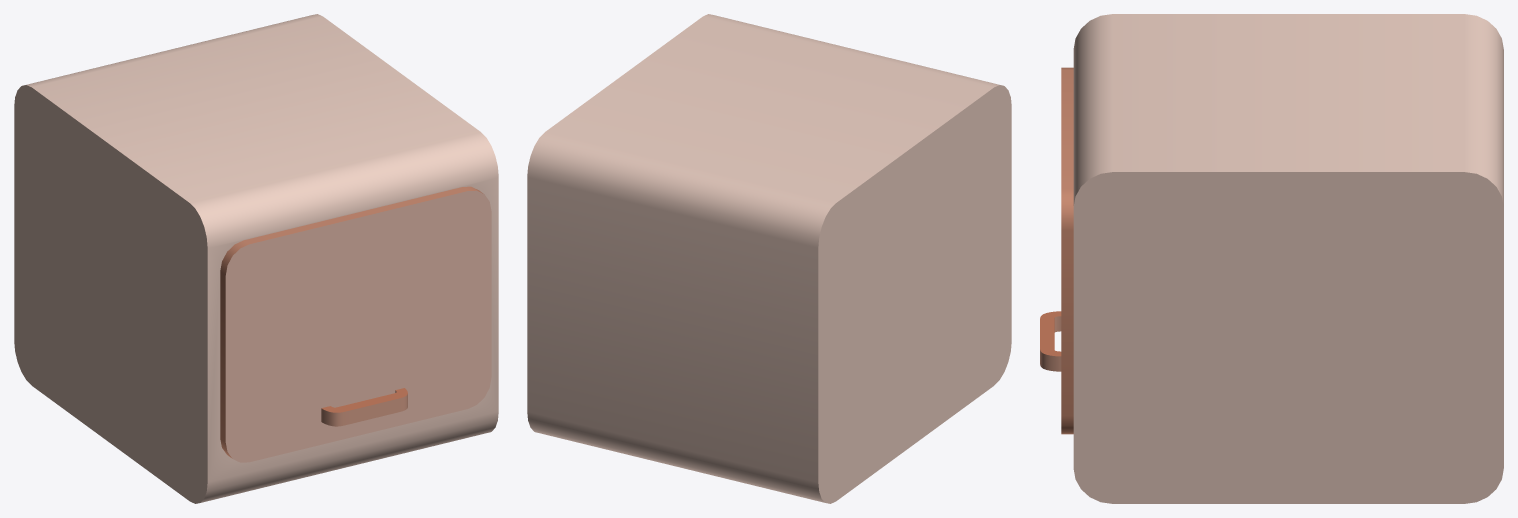
Rendered from Cupboard D.fbx.
3 views of the same model, side by side, from view 1: azimuth 30°, elevation 25°; view 2: azimuth 150°, elevation 25°; view 3: azimuth 270°, elevation 25° (orthographic). The views are drawn at different scales.
Visible parts, largest first — view 1: Cupboard.003, Cupboard.004; view 2: Cupboard.003; view 3: Cupboard.003, Cupboard.004.
Part boxes in pixels (<box>): Cupboard.003: <box>14,14,498,503</box>; Cupboard.004: <box>220,186,491,462</box>; Cupboard.003: <box>527,14,1011,503</box>; Cupboard.003: <box>1073,14,1503,503</box>; Cupboard.004: <box>1040,67,1073,434</box>.
Size of the model in its own units: 1.43 by 1.4 by 1.78.
